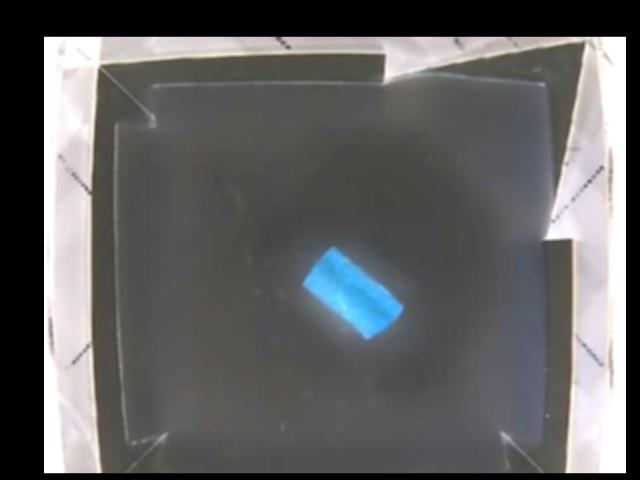Carrot: (301, 244, 405, 337)
